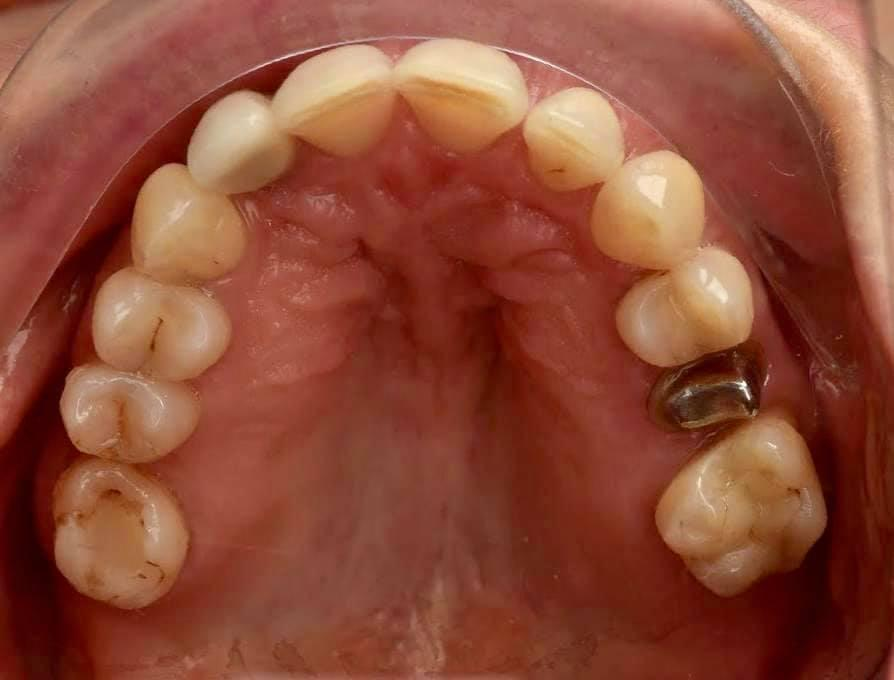UL1BC_healthy: (622, 259, 747, 361)
UL1M_decay: (660, 417, 824, 578)
UL2BC_decay: (662, 361, 765, 431)
ULCI_healthy: (393, 28, 524, 153)
ULC_healthy: (601, 160, 700, 266)
ULLI_decay: (526, 80, 618, 198)
UR1BC_decay: (89, 270, 226, 380)
UR1M_decay: (56, 470, 172, 602)
UR2BC_decay: (60, 372, 202, 456)
URCI_healthy: (285, 41, 392, 147)
URC_healthy: (136, 175, 249, 277)
URLI_healthy: (194, 97, 290, 198)
